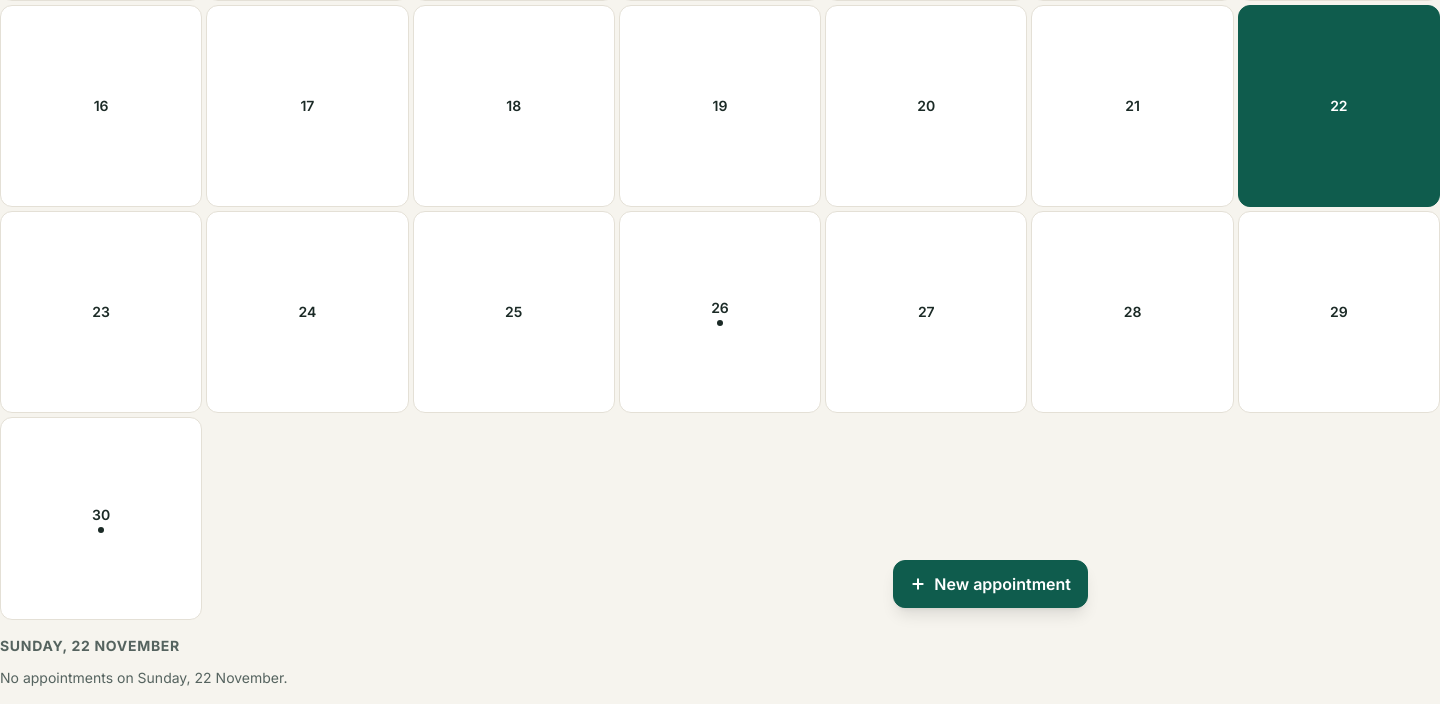
it: calendar › marks days that have appointments and shows the chosen day below
(page scrolled)
Expected: the text "No appointments on Sunday, 22 November." is shown, [0,669,288,686]
Click the button named "26 November, 1 appointment". click: (720, 312)
box: [619,211,821,414]
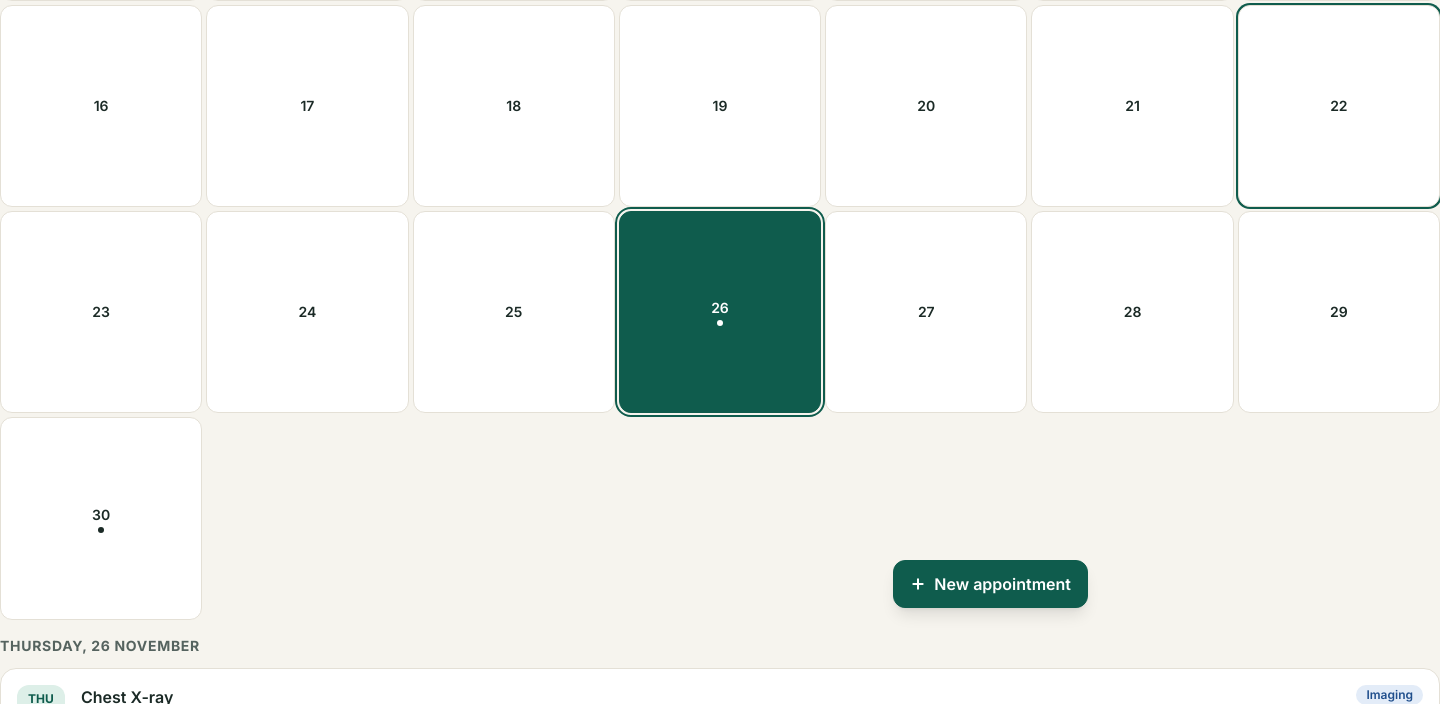
Expected: the button named "30 November, 1 appointment" is shown, [0,418,202,620]
Expected: the heading "Thursday, 26 November" is shown, [0,637,200,654]
